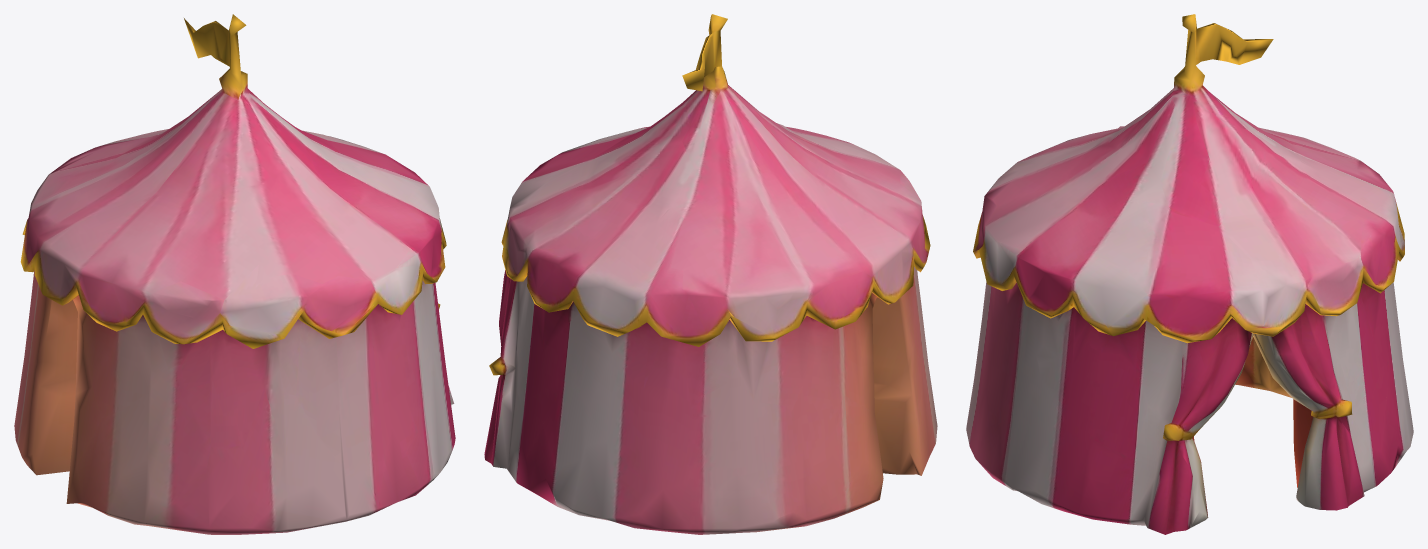
Rendered from tent.glb.
The picture shows the model from 3 angles, left to right: view 1: azimuth 30°, elevation 25°; view 2: azimuth 150°, elevation 25°; view 3: azimuth 270°, elevation 25°; orthographic projection.
Visible parts, largest first — view 1: tripo_node_c8e925ba-3cd1-4c0d-a66b-4c954ae2ea44; view 2: tripo_node_c8e925ba-3cd1-4c0d-a66b-4c954ae2ea44; view 3: tripo_node_c8e925ba-3cd1-4c0d-a66b-4c954ae2ea44.
Part boxes in pixels (left/top/right/bottom): tripo_node_c8e925ba-3cd1-4c0d-a66b-4c954ae2ea44: left=14, top=14, right=455, bottom=534; tripo_node_c8e925ba-3cd1-4c0d-a66b-4c954ae2ea44: left=484, top=14, right=937, bottom=534; tripo_node_c8e925ba-3cd1-4c0d-a66b-4c954ae2ea44: left=966, top=14, right=1413, bottom=534.
Size of the model in its own units: 0.9442 by 1 by 0.949.
1 material, 1 textured.
